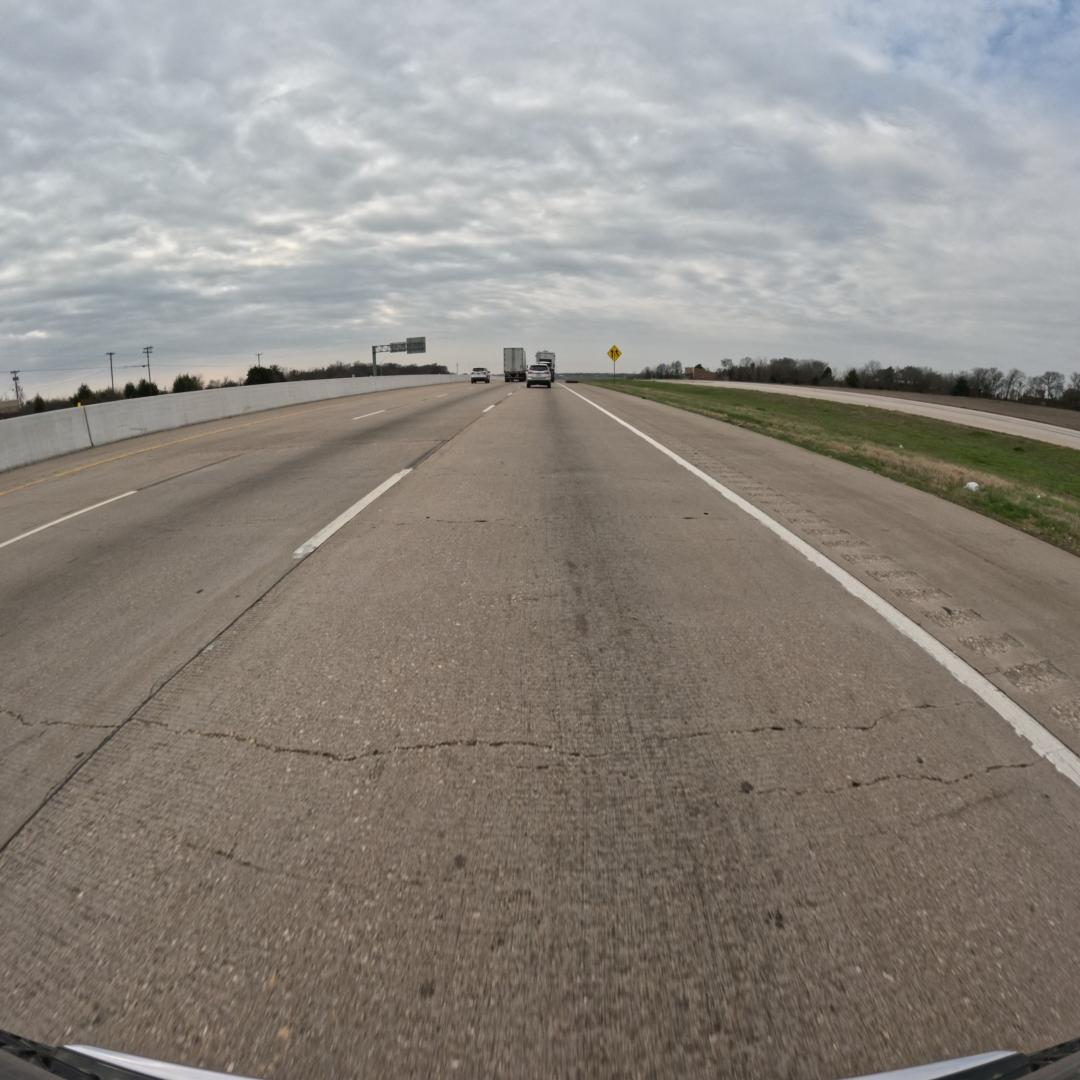lane0: (0, 387, 1080, 1080)
lane1: (0, 381, 522, 849)
